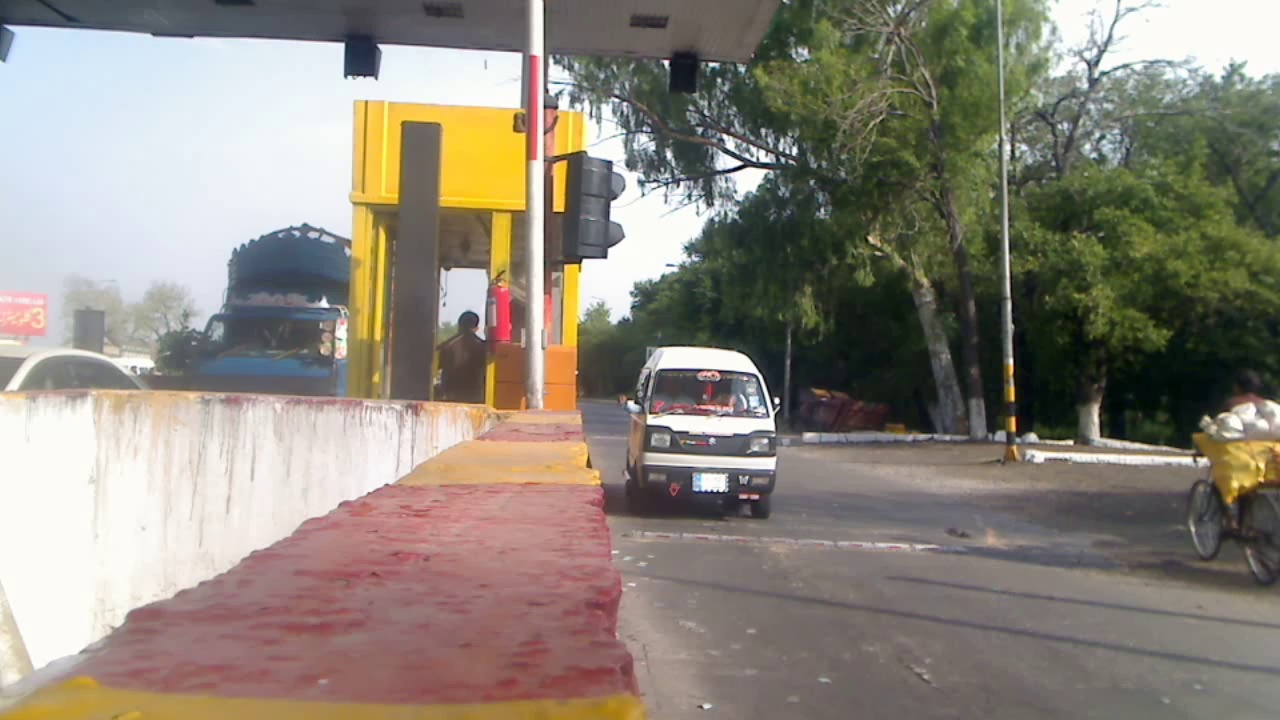Number Plate (Car): (695, 473, 726, 488)
